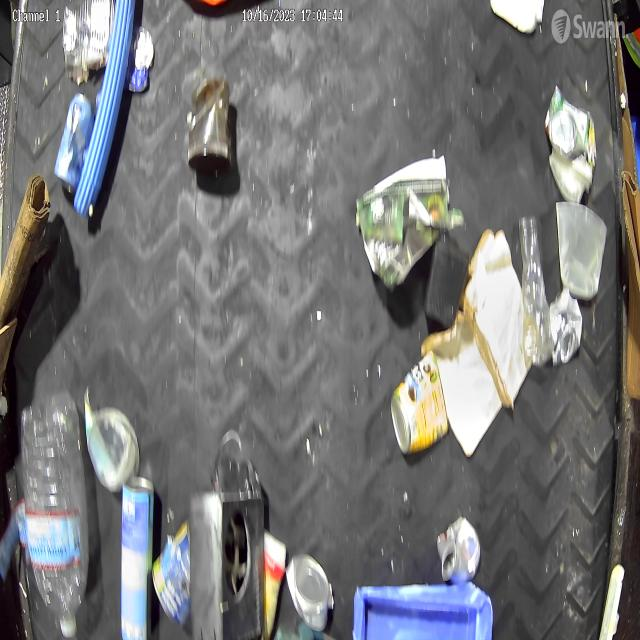can: (120, 468, 154, 640), (390, 351, 454, 442), (286, 550, 328, 626)
non_white_jug: (355, 140, 453, 298)
plastic_bottle: (24, 397, 95, 640)
